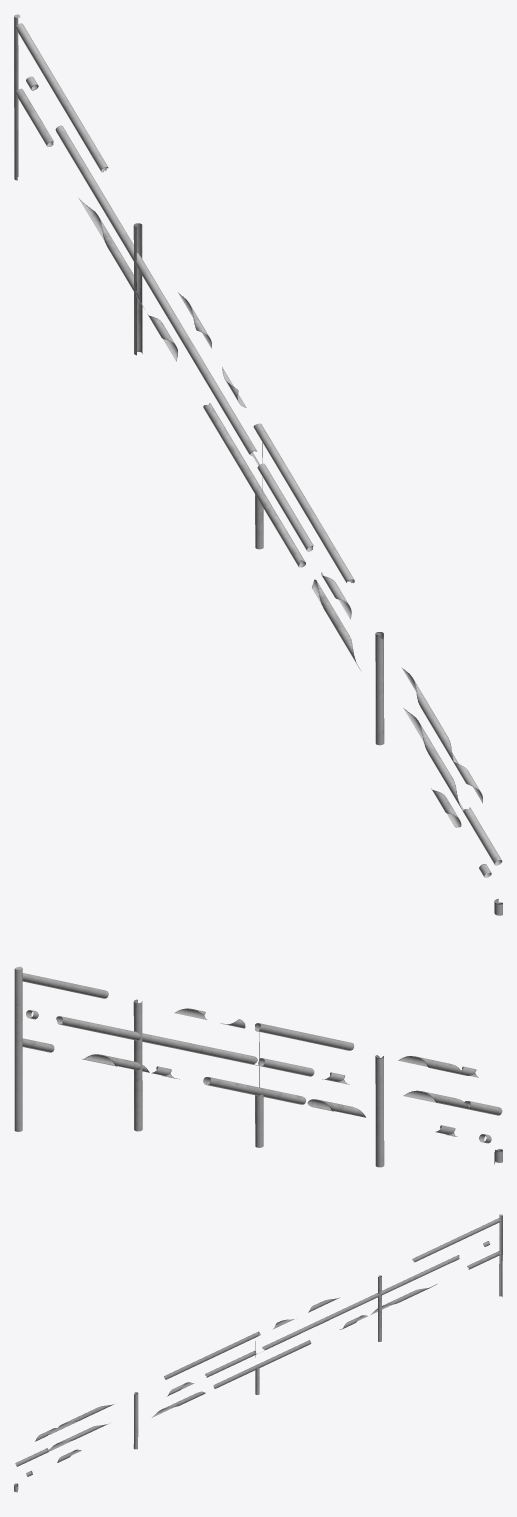
The model's file is Railing_Stairs.fbx.
The picture shows the model from 3 angles, top to bottom: view 1: azimuth 30°, elevation 25°; view 2: azimuth 150°, elevation 25°; view 3: azimuth 270°, elevation 25°; orthographic projection. The views are drawn at different scales.
Visible parts, largest first — view 1: Railing_Stairs; view 2: Railing_Stairs; view 3: Railing_Stairs.
Part boxes in pixels (box(x1,y1,x2,y2)): Railing_Stairs: box(14, 14, 502, 915); Railing_Stairs: box(14, 966, 502, 1167); Railing_Stairs: box(14, 1214, 502, 1492).
Size of the model in its own units: 0.062 by 4.56 by 7.06.
